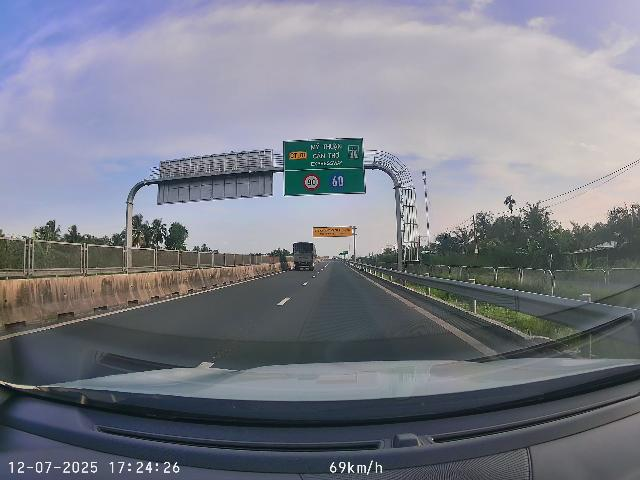127-toc-do-toi-da-90: (302, 173, 320, 191)
306-toc-do-toi-thieu-60: (328, 172, 346, 190)
437-bat-dau-duong-cao-toc: (347, 145, 360, 160)
